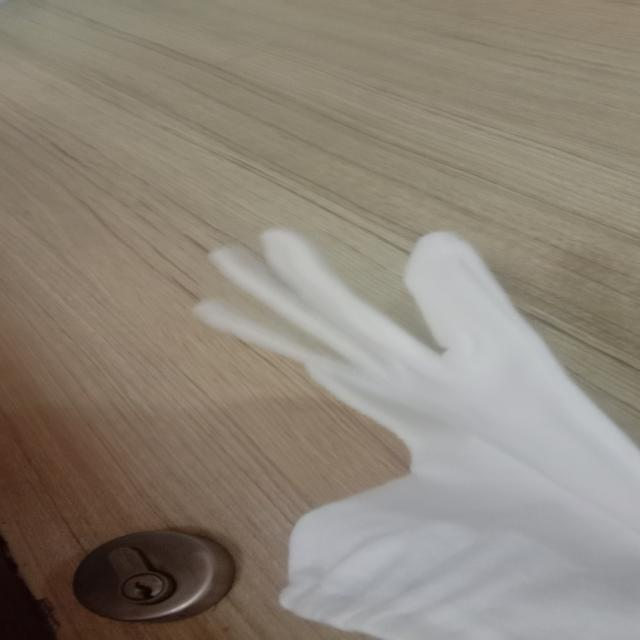gloved_hand: (186, 229, 632, 639)
